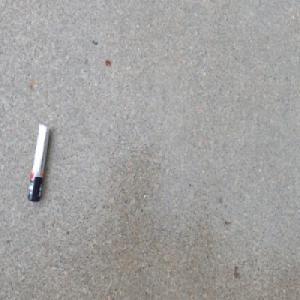Battery: (26, 121, 51, 204)
